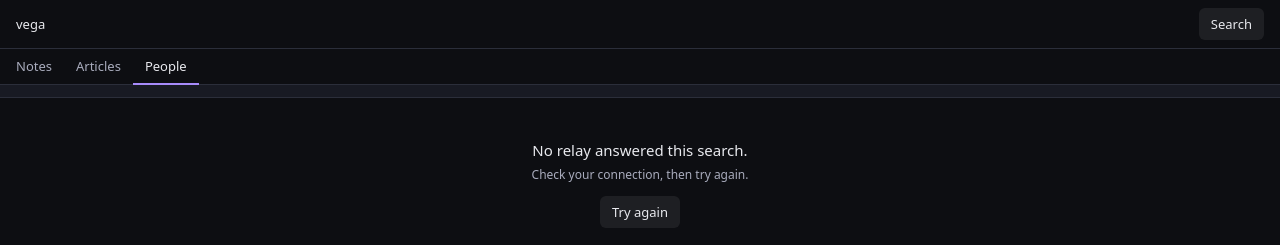
Test case: SearchView: a search that finds nothing › forgets the last search's failure when the next one is answered
Expected: the message is shown, [532,140,748,228]
Click the button "Try again" at (640, 212), box [600,196,680,228]
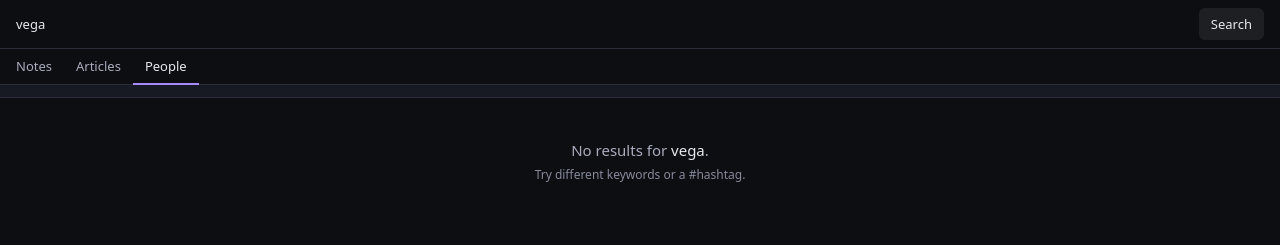
Expected: the text "No results for vega." is shown, [571,140,709,160]
